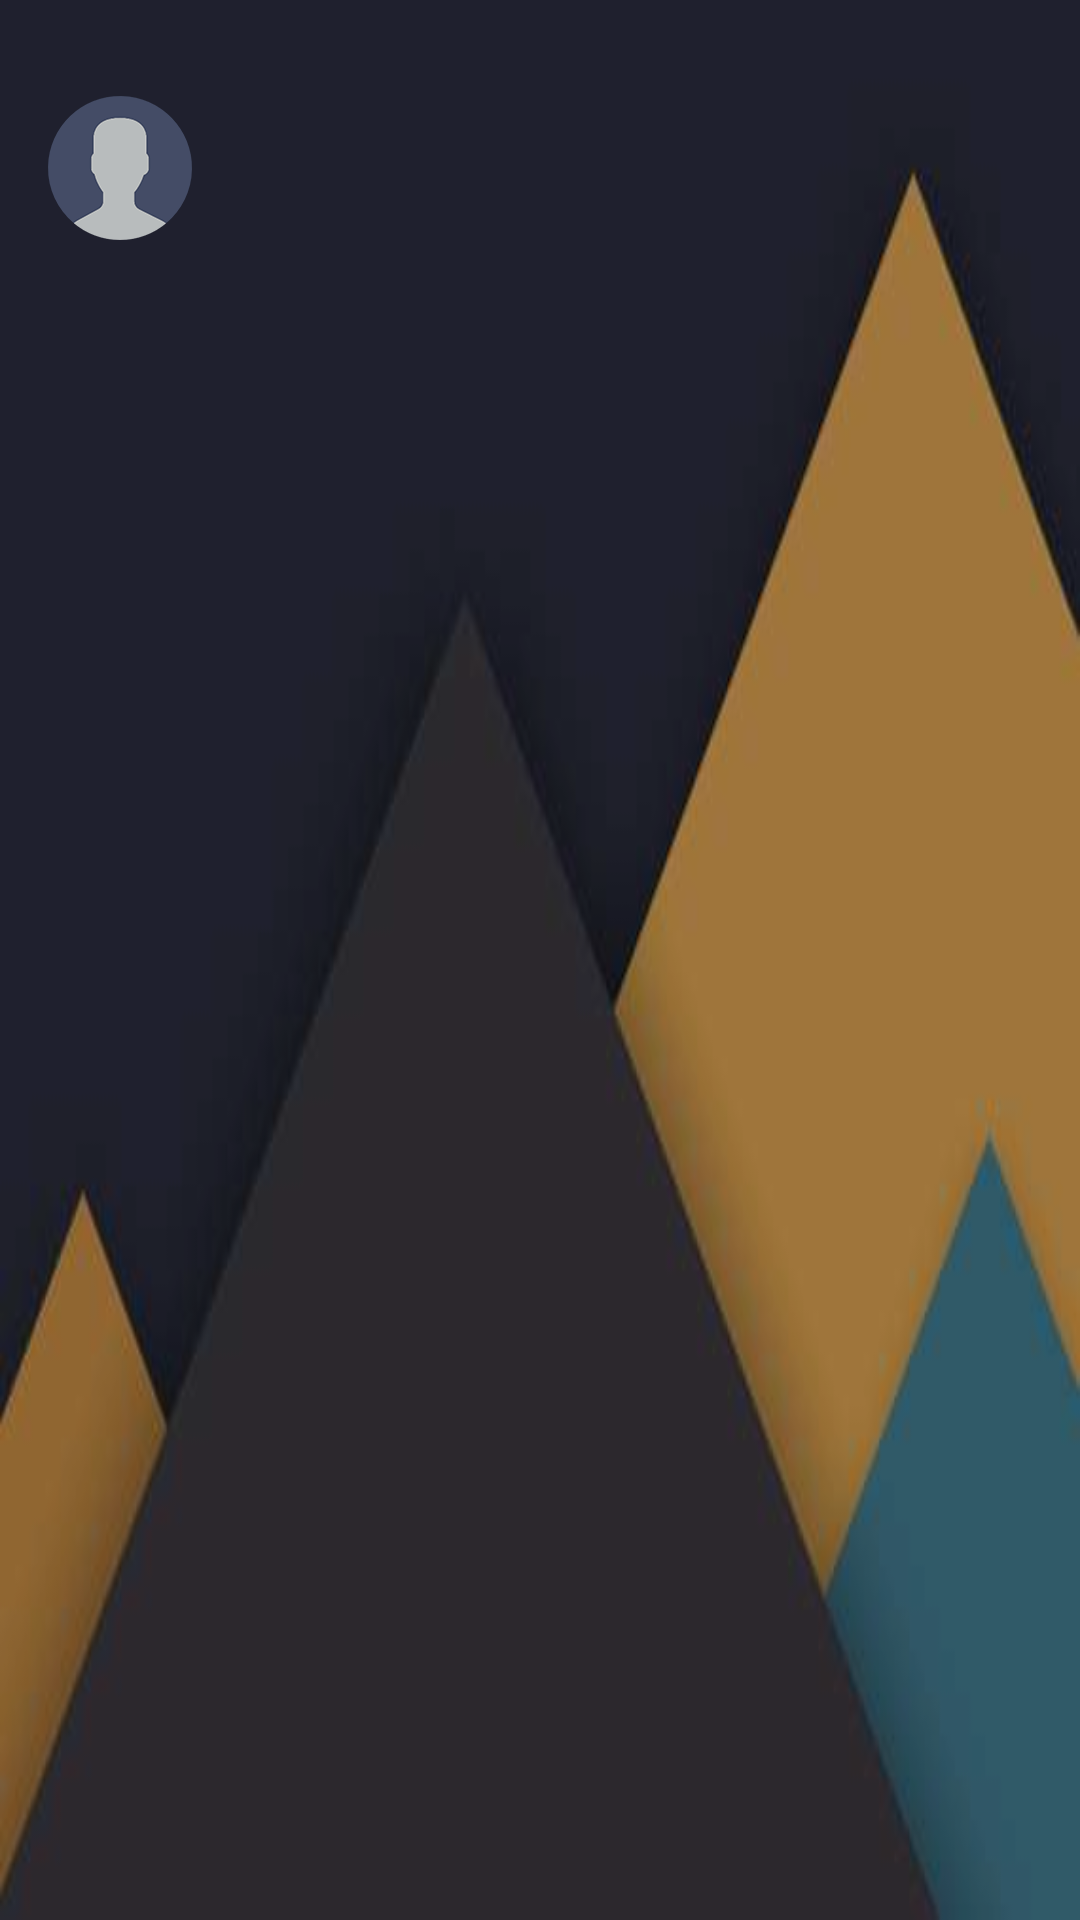

Named icons in this screenshot (1080x1920) and their bounding boxes, bbox(x1, y1, x2, y2):
avtar slider: bbox(48, 96, 192, 240)
